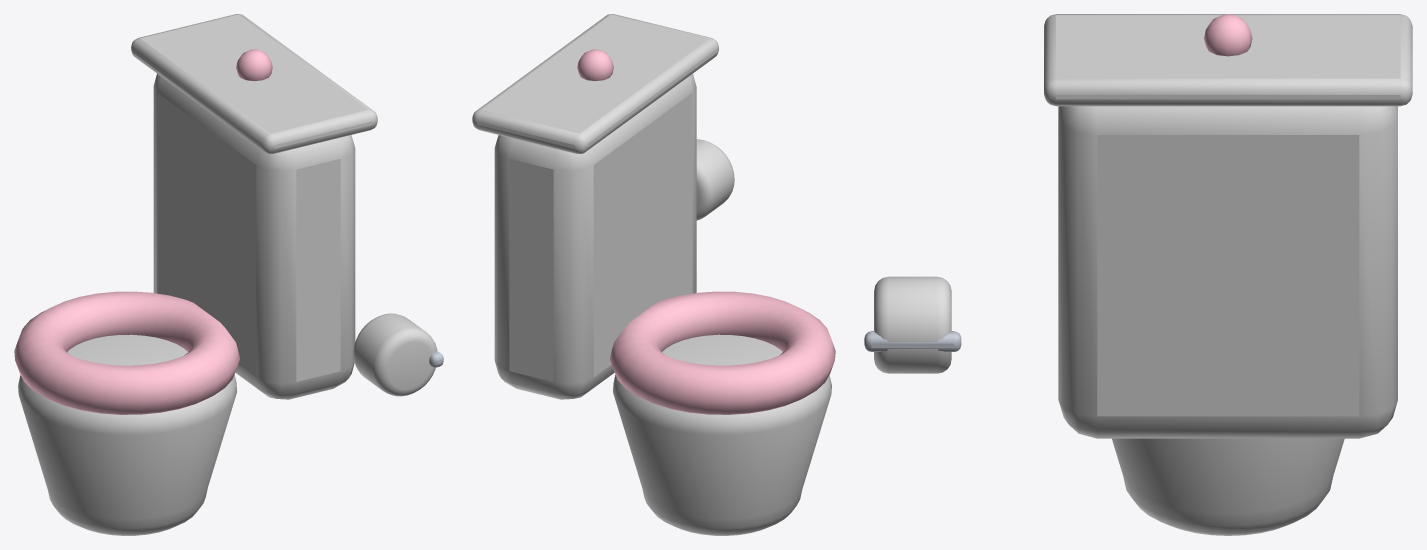
Rendered from toilet.glb.
3 views of the same model, side by side, from view 1: azimuth 30°, elevation 25°; view 2: azimuth 150°, elevation 25°; view 3: azimuth 270°, elevation 25° (orthographic). The views are drawn at different scales.
Visible parts, largest first — view 1: cffffff, cffc4d6; view 2: cffffff, cffc4d6; view 3: cffffff, cffc4d6, roll_holder.
Boxes of the visible parts, <box> form: cffffff: <box>18,14,437,535</box>; cffc4d6: <box>14,49,272,414</box>; cffffff: <box>472,14,831,535</box>; cffc4d6: <box>577,49,835,414</box>; cffffff: <box>874,14,1412,535</box>; cffc4d6: <box>1204,14,1252,56</box>; roll_holder: <box>864,331,961,351</box>.
Bounding box in the file's own units: 0.89 × 1.29 × 1.13.
